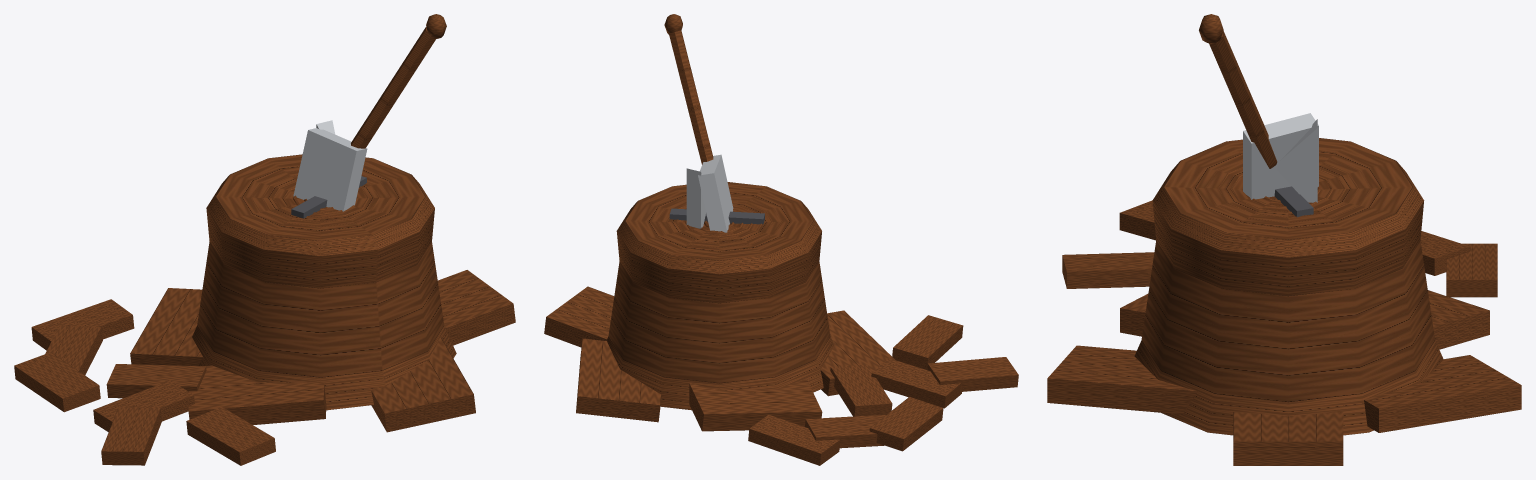
Rendered from axe-0.glb.
3 views of the same model, side by side, from view 1: azimuth 30°, elevation 25°; view 2: azimuth 150°, elevation 25°; view 3: azimuth 270°, elevation 25° (orthographic). The views are drawn at different scales.
Parts seen in each view (by area): view 1: axe-in-stump; view 2: axe-in-stump; view 3: axe-in-stump.
Part boxes in pixels (<box>): axe-in-stump: <box>14,14,515,465</box>; axe-in-stump: <box>544,14,1018,465</box>; axe-in-stump: <box>1047,14,1521,465</box>.
Size of the model in its own units: 1.68 by 1.26 by 1.29.
3 materials, 1 textured.
